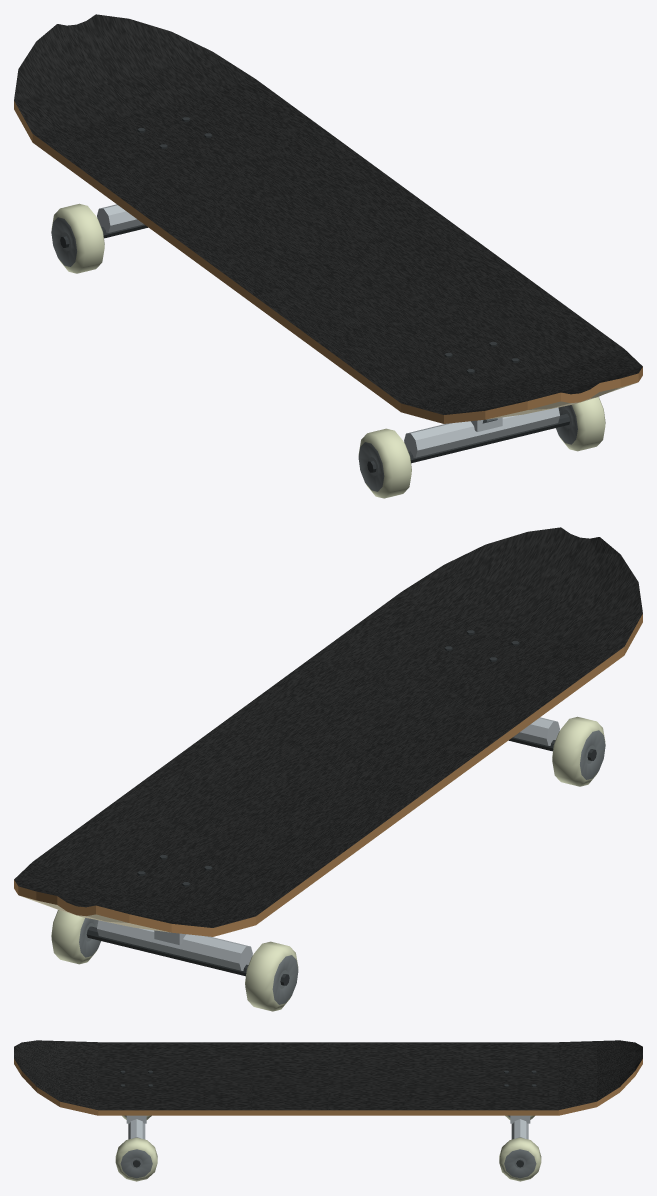
The model's file is 04_Concrete_Fern.glb.
3 renders of one model, top to bottom at view 1: azimuth 30°, elevation 25°; view 2: azimuth 150°, elevation 25°; view 3: azimuth 270°, elevation 25°, orthographic. The views are drawn at different scales.
Parts seen in each view (by area): view 1: Deck_Concrete_Fern, Truck_Rear_Concrete_Fern, Wheel_FrontL_Concrete_Fern, Wheel_RearL_Concrete_Fern, Wheel_RearR_Concrete_Fern, Truck_Front_Concrete_Fern; view 2: Deck_Concrete_Fern, Truck_Front_Concrete_Fern, Wheel_RearL_Concrete_Fern, Wheel_FrontL_Concrete_Fern, Wheel_FrontR_Concrete_Fern, Truck_Rear_Concrete_Fern; view 3: Deck_Concrete_Fern, Wheel_FrontR_Concrete_Fern, Wheel_RearR_Concrete_Fern, Truck_Front_Concrete_Fern, Truck_Rear_Concrete_Fern.
Part boxes in pixels (left/top/right/bottom): Deck_Concrete_Fern: left=14, top=14, right=642, bottom=423; Truck_Rear_Concrete_Fern: left=367, top=407, right=570, bottom=472; Wheel_FrontL_Concrete_Fern: left=51, top=203, right=104, bottom=273; Wheel_RearL_Concrete_Fern: left=358, top=428, right=411, bottom=498; Wheel_RearR_Concrete_Fern: left=556, top=397, right=605, bottom=451; Truck_Front_Concrete_Fern: left=60, top=204, right=148, bottom=247; Deck_Concrete_Fern: left=14, top=527, right=642, bottom=936; Truck_Front_Concrete_Fern: left=86, top=920, right=289, bottom=985; Wheel_RearL_Concrete_Fern: left=552, top=716, right=605, bottom=786; Wheel_FrontL_Concrete_Fern: left=245, top=941, right=298, bottom=1011; Wheel_FrontR_Concrete_Fern: left=51, top=910, right=100, bottom=964; Truck_Rear_Concrete_Fern: left=508, top=717, right=596, bottom=760; Deck_Concrete_Fern: left=14, top=1040, right=642, bottom=1115; Wheel_FrontR_Concrete_Fern: left=499, top=1137, right=541, bottom=1181; Wheel_RearR_Concrete_Fern: left=115, top=1137, right=157, bottom=1181; Truck_Front_Concrete_Fern: left=508, top=1115, right=530, bottom=1167; Truck_Rear_Concrete_Fern: left=125, top=1115, right=146, bottom=1167.
Bounding box in the file's own units: 0.21 × 0.139 × 0.82.
8 materials, 2 textured.
